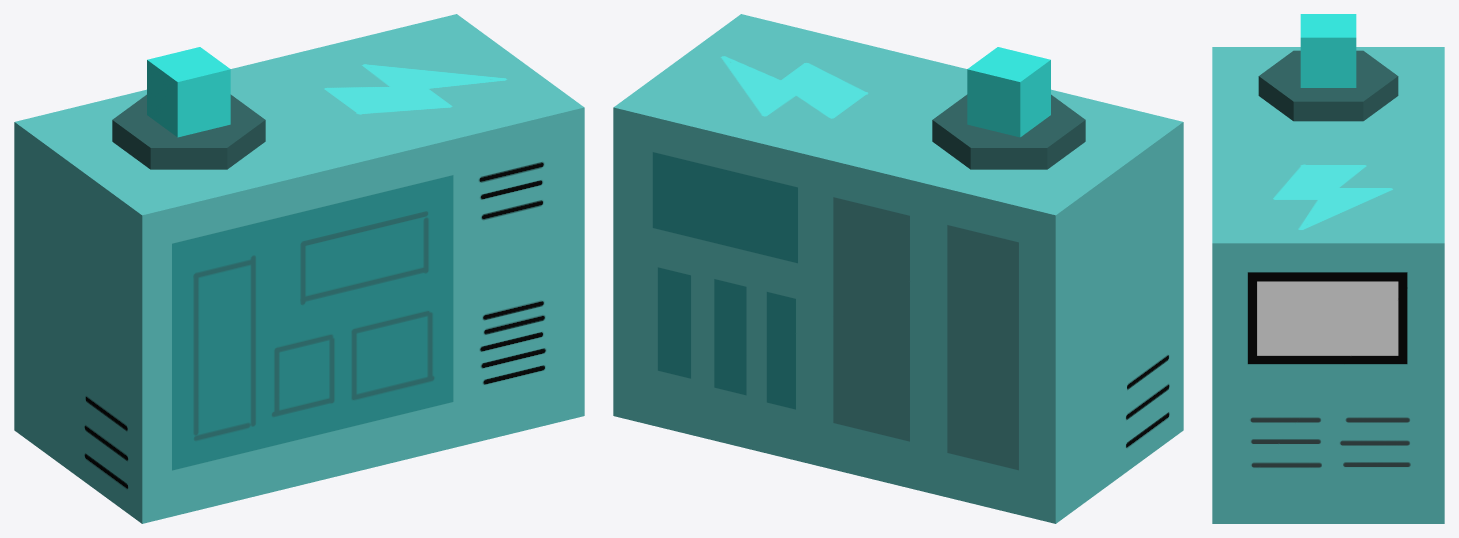
The model's file is PlayerTower.gltf.
3 views of the same model, side by side, from view 1: azimuth 30°, elevation 25°; view 2: azimuth 150°, elevation 25°; view 3: azimuth 270°, elevation 25° (orthographic). The views are drawn at different scales.
Visible parts, largest first — view 1: Cube; view 2: Cube; view 3: Cube.
Part boxes in pixels (x1,y1,x2,y2): Cube: (14, 14, 584, 523); Cube: (613, 14, 1183, 523); Cube: (1212, 14, 1444, 523).
Size of the model in its own units: 4 by 3.33 by 2.
Materials: 1 (1 with a texture image).
